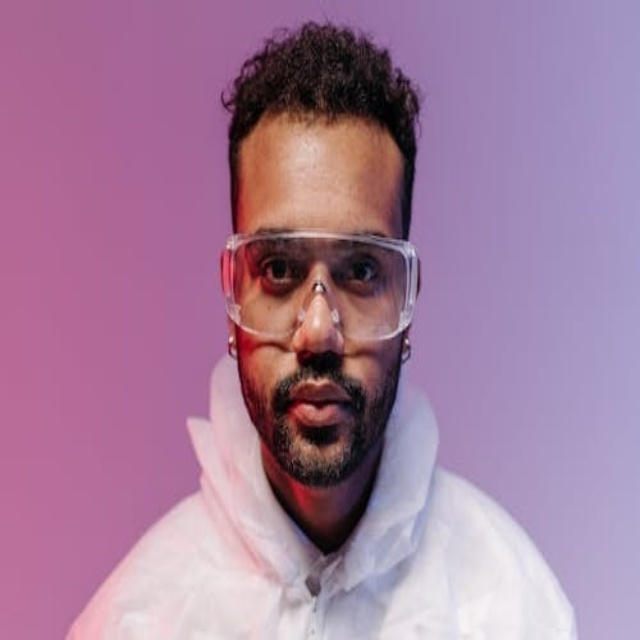Gafas: (222, 230, 421, 342)
Sin_mascara: (274, 364, 361, 469)
